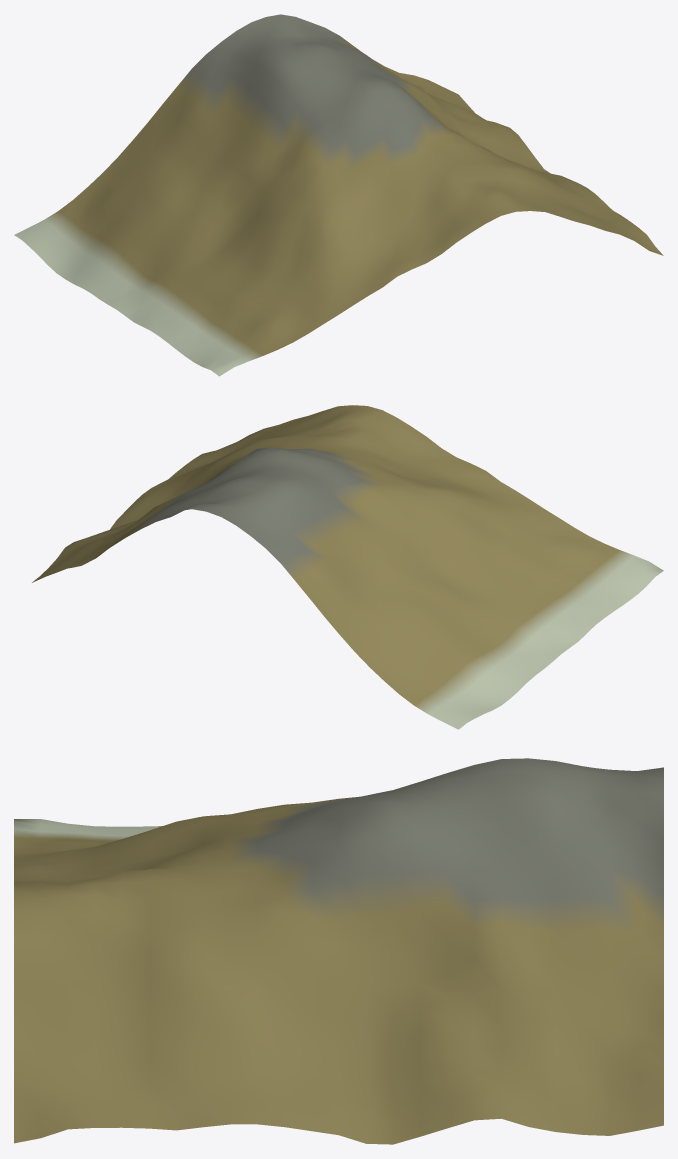
3 renders of one model, top to bottom at view 1: azimuth 30°, elevation 25°; view 2: azimuth 150°, elevation 25°; view 3: azimuth 270°, elevation 25°, orthographic. The views are drawn at different scales.
Parts seen in each view (by area): view 1: world-ground/180-120; view 2: world-ground/180-120; view 3: world-ground/180-120.
Boxes of the visible parts, left/top/right/bottom form: world-ground/180-120: left=14, top=14, right=663, bottom=376; world-ground/180-120: left=32, top=405, right=663, bottom=729; world-ground/180-120: left=14, top=758, right=663, bottom=1144.
Bounding box in the file's own units: 37.5 × 13.19 × 30.
